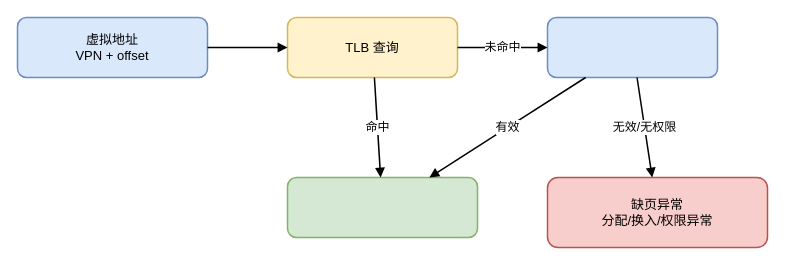
The diagram is 786 pixels wide and 266 high, and some of its shapes have lost their labels. Here are the shapes that lost their labels. From the top down, the centre of each, then its label:
point 632,47: 多级页表
point 382,207: 物理地址 PFN + offset
